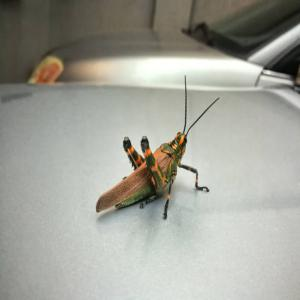locust: (88, 85, 221, 227)
